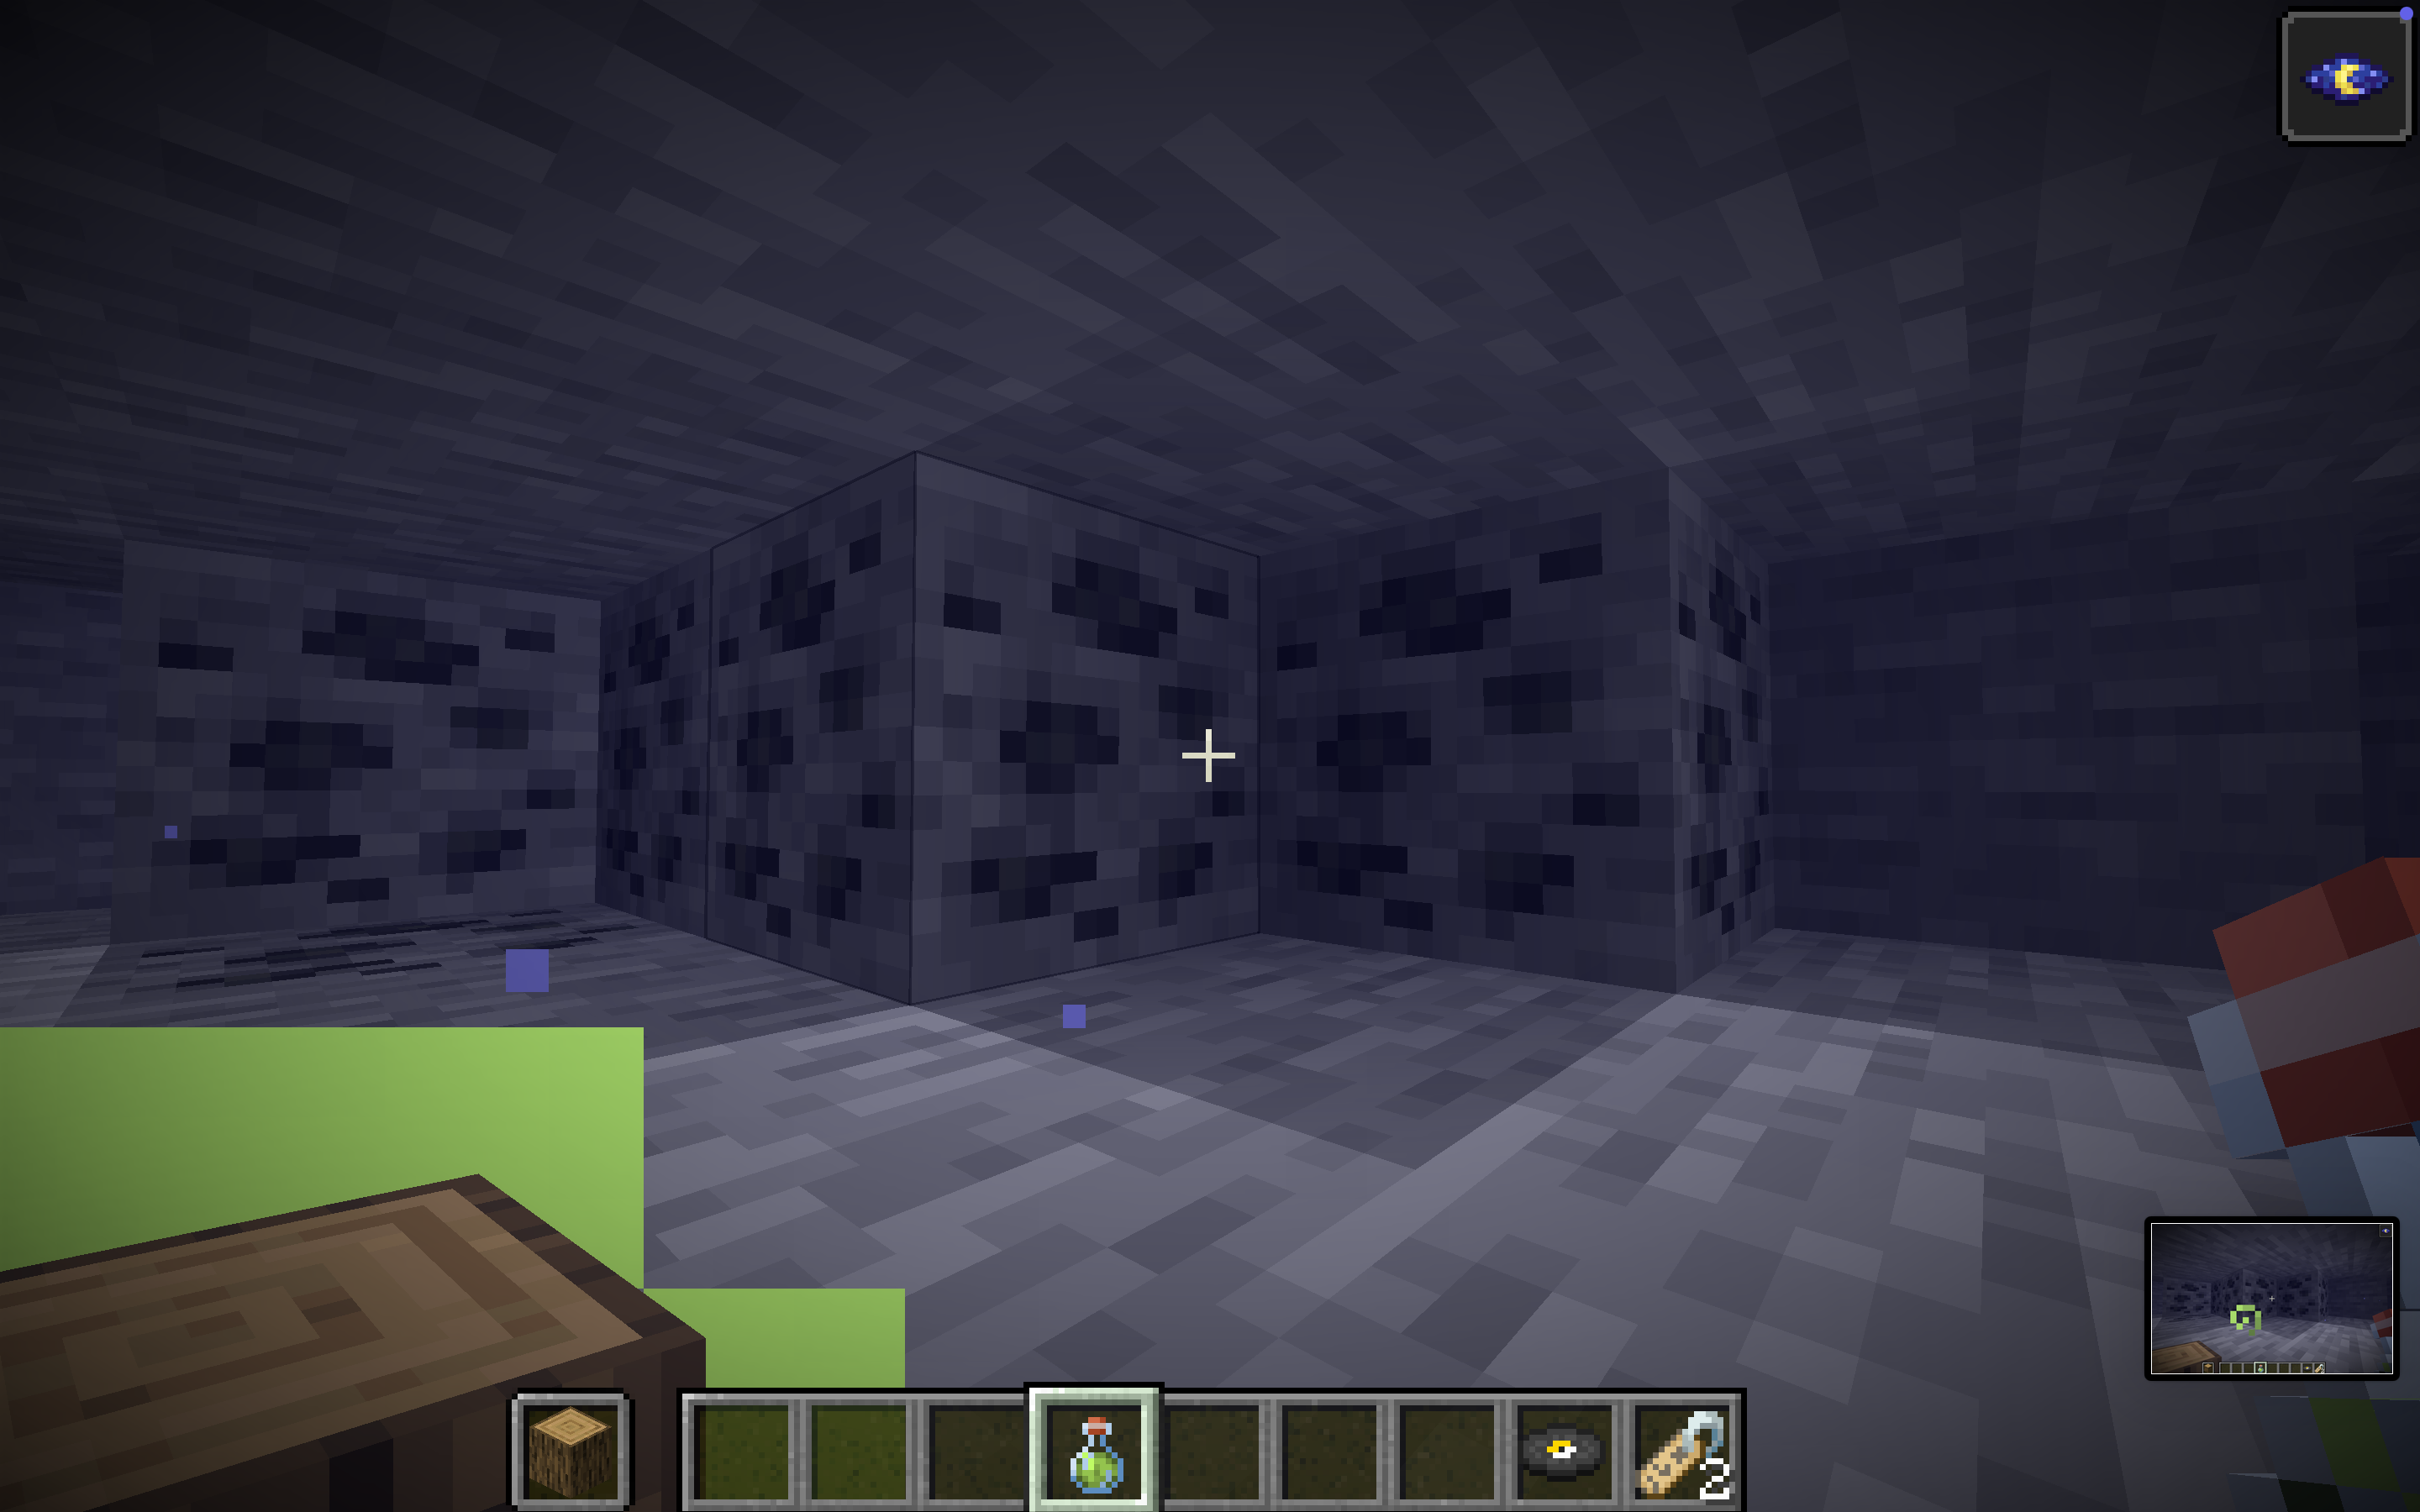coal: (328, 120, 1868, 1029)
